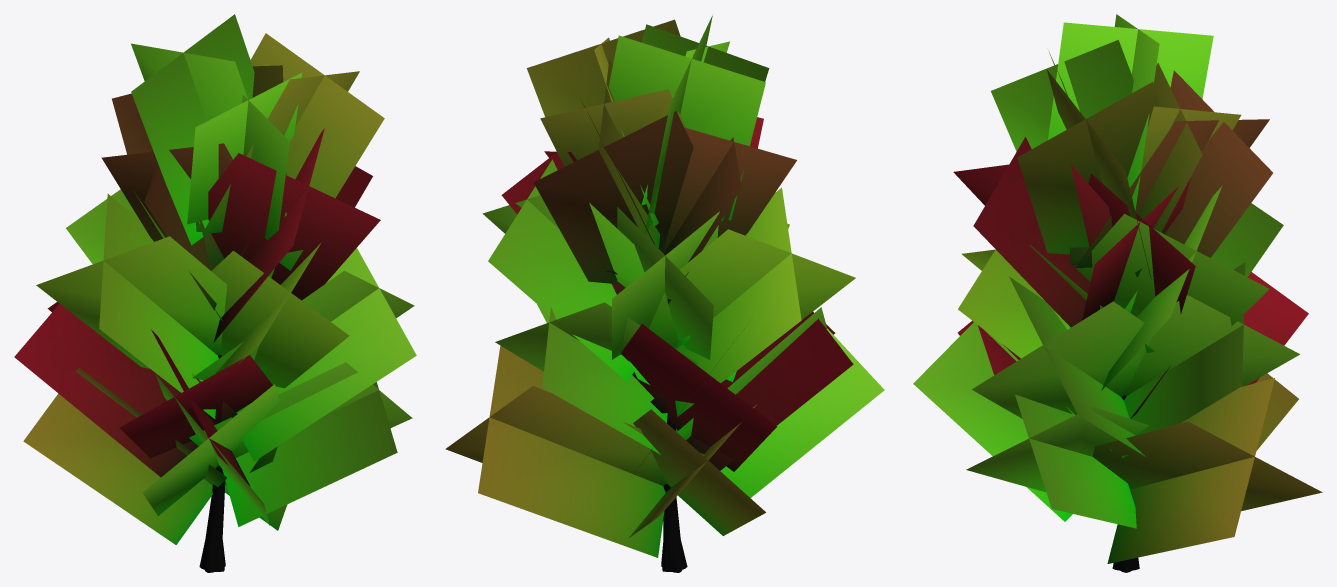
The model's file is S_Tree_10_1.fbx.
3 renders of one model, left to right at view 1: azimuth 30°, elevation 25°; view 2: azimuth 150°, elevation 25°; view 3: azimuth 270°, elevation 25°, orthographic.
Parts seen in each view (by area): view 1: S_Tree_10_1; view 2: S_Tree_10_1; view 3: S_Tree_10_1.
Part boxes in pixels (left/top/right/bottom): S_Tree_10_1: left=14, top=14, right=416, bottom=572; S_Tree_10_1: left=445, top=15, right=884, bottom=572; S_Tree_10_1: left=913, top=14, right=1322, bottom=572.
Bounding box in the file's own units: 1168 × 1800 × 1234.
